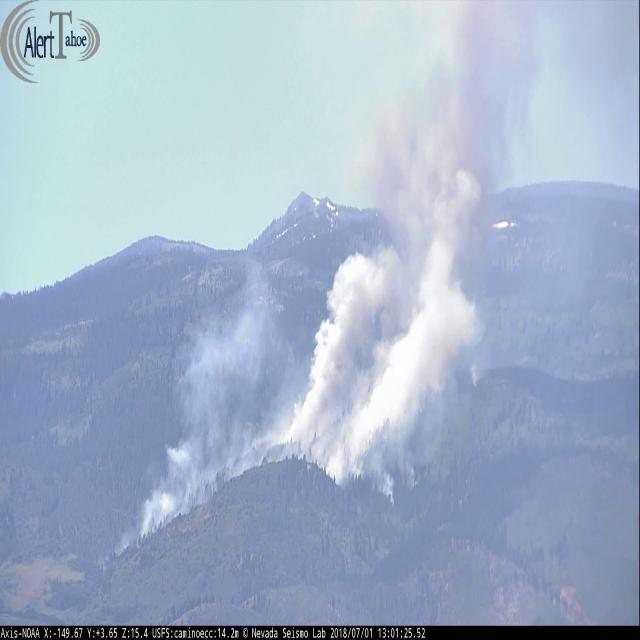smoke: (106, 0, 639, 563)
